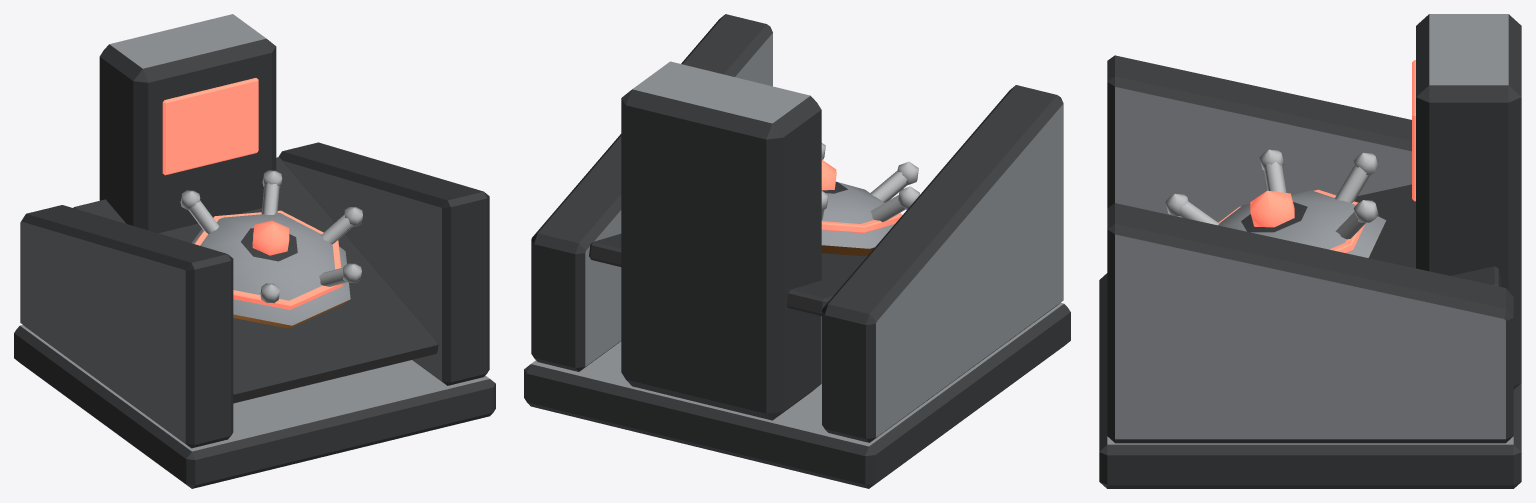
File: R4X_ExplosiveTrapDeployer_LOD1.fbx
3 renders of one model, left to right at view 1: azimuth 30°, elevation 25°; view 2: azimuth 150°, elevation 25°; view 3: azimuth 270°, elevation 25°, orthographic. The views are drawn at different scales.
Visible parts, largest first — view 1: R4X_ExplosiveTrapDeployer_LOD1; view 2: R4X_ExplosiveTrapDeployer_LOD1; view 3: R4X_ExplosiveTrapDeployer_LOD1.
Part boxes in pixels (x1,y1,x2,y2): R4X_ExplosiveTrapDeployer_LOD1: (14, 14, 495, 488); R4X_ExplosiveTrapDeployer_LOD1: (524, 14, 1070, 488); R4X_ExplosiveTrapDeployer_LOD1: (1099, 14, 1521, 488).
Bounding box in the file's own units: 0.52 × 0.48 × 0.52.
